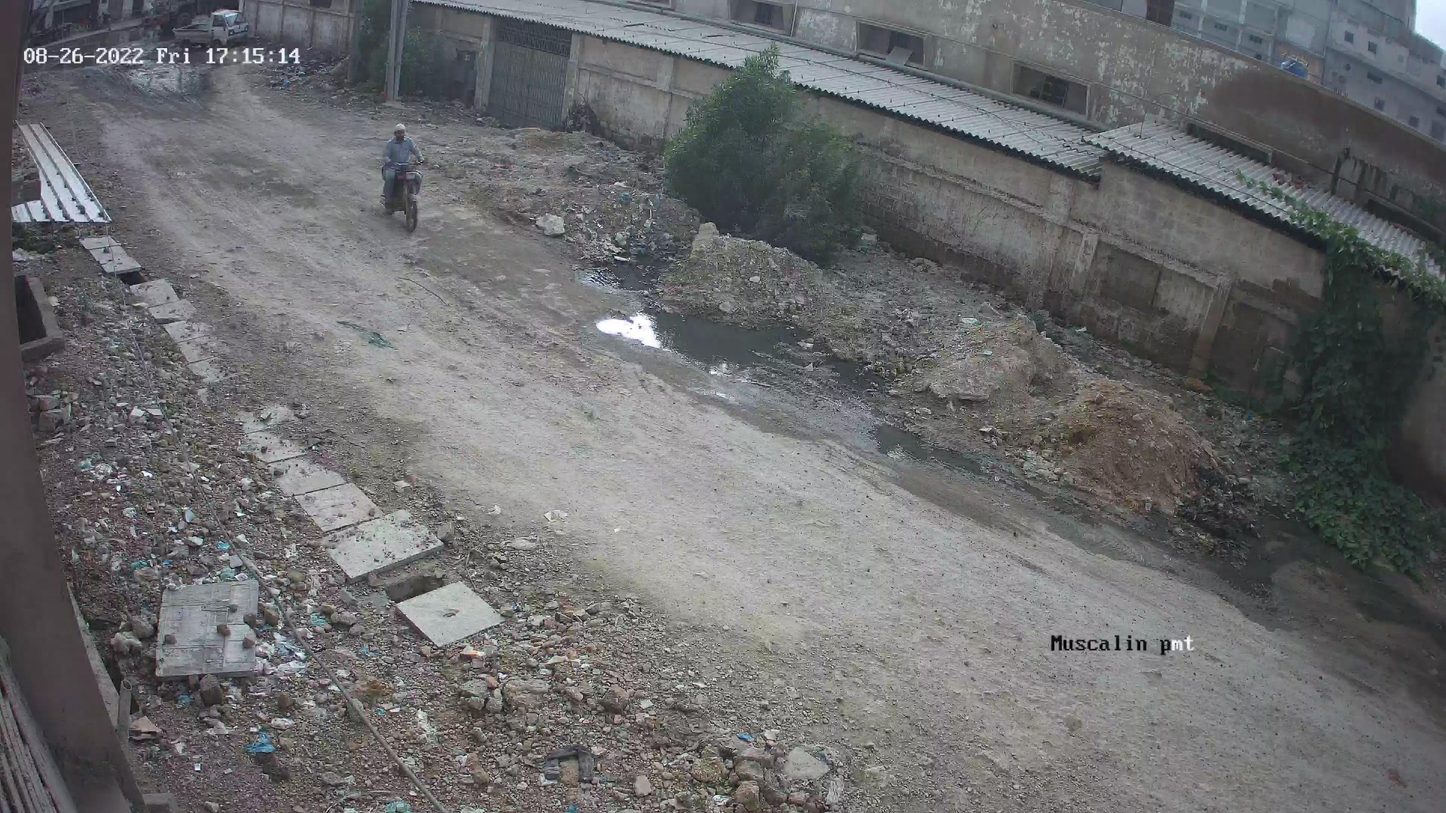person: (374, 122, 437, 191)
